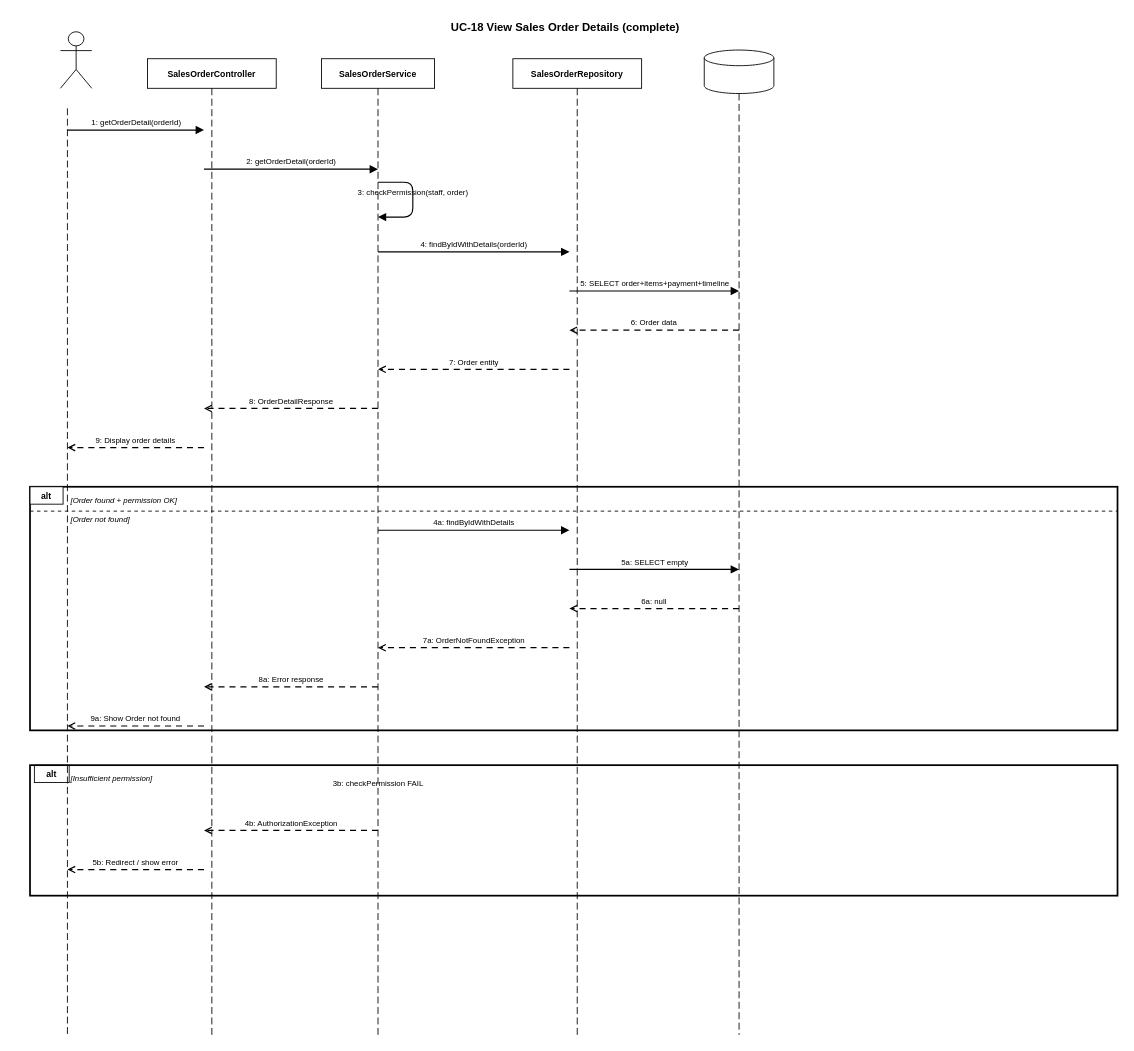
Some shapes in this 1134 by 1051 pixel diagram are drawn without their labels. The box of each missing label's shape, as (x1, y1, x2, y2) in pixels:
Database: (703, 49, 774, 94)
Online Ordering Staff / Admin: (60, 31, 92, 88)
